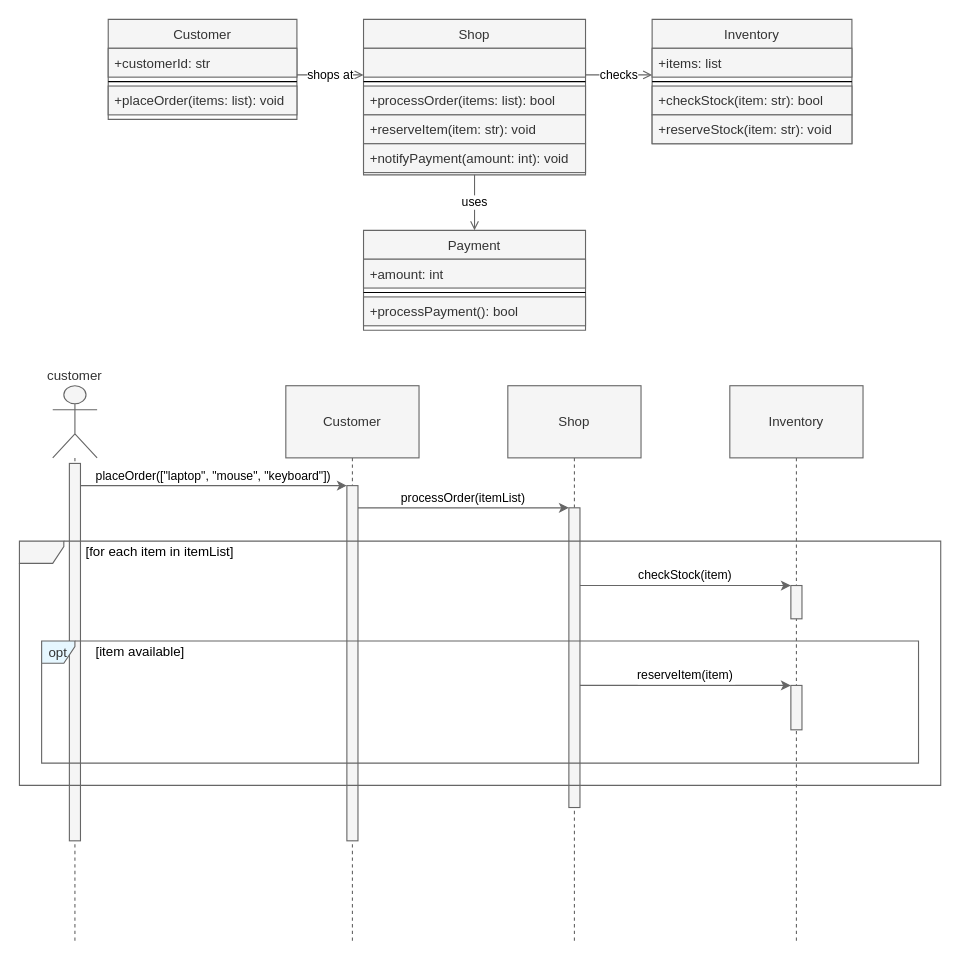
Some shapes in this 971 by 960 pixel diagram are drawn without their labels. The box of each missing label's shape, as (x1, y1, x2, y2) in pixels:
+name: str: (362, 47, 586, 77)
loop: (18, 540, 941, 785)
